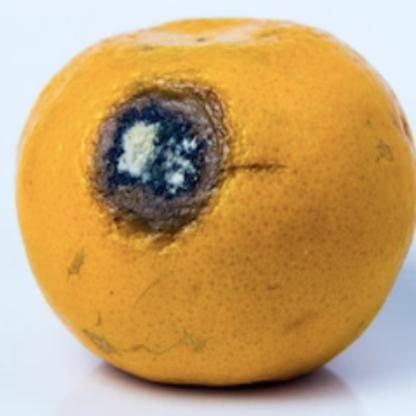rotten: (19, 16, 416, 389)
